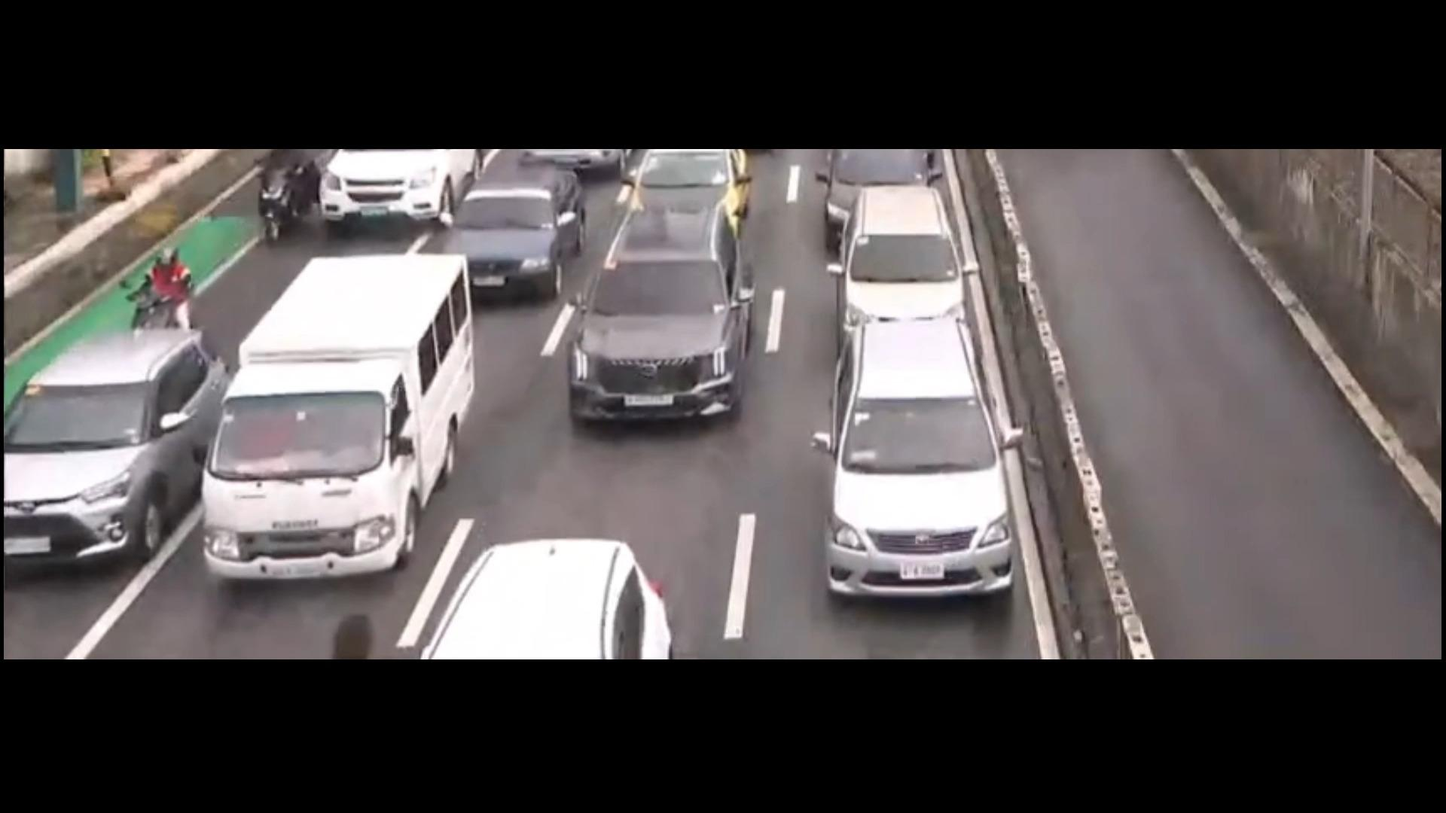Motorcycle: (126, 230, 209, 341), (242, 134, 319, 244)
Multicab: (161, 251, 503, 581)
SUV: (807, 309, 1049, 612), (0, 320, 255, 567), (554, 189, 759, 447), (407, 542, 740, 657), (807, 175, 1002, 355)
Sedan: (449, 147, 599, 304)
